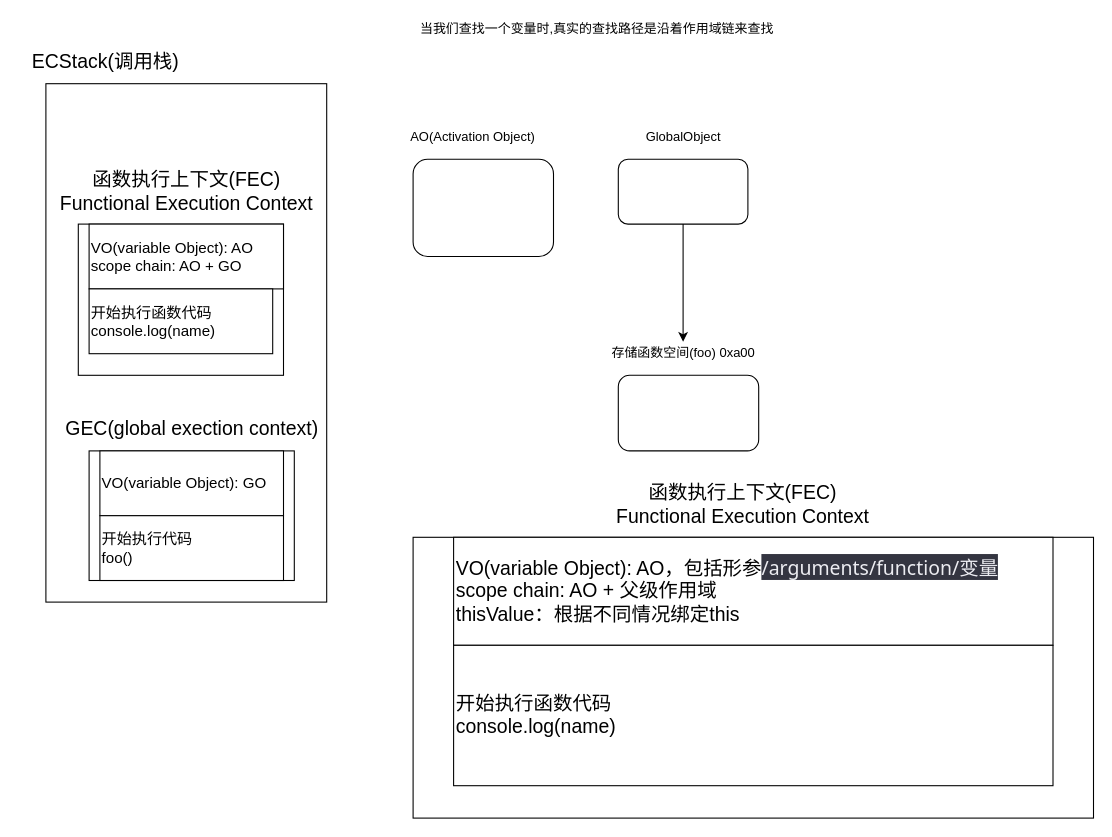
The diagram is 1112 pixels wide and 837 high, and some of its shapes have lost their labels. The box of each missing label's shape, as (x1, y1, x2, y2) in pixels:
[[scope]]: parent scope 函数的执行体(代码块): (617, 374, 759, 451)
{ name: "why" foo: 0xa00 }: (617, 158, 748, 224)
{ num: 123 m: 10 n: 20 }: (412, 158, 554, 256)
